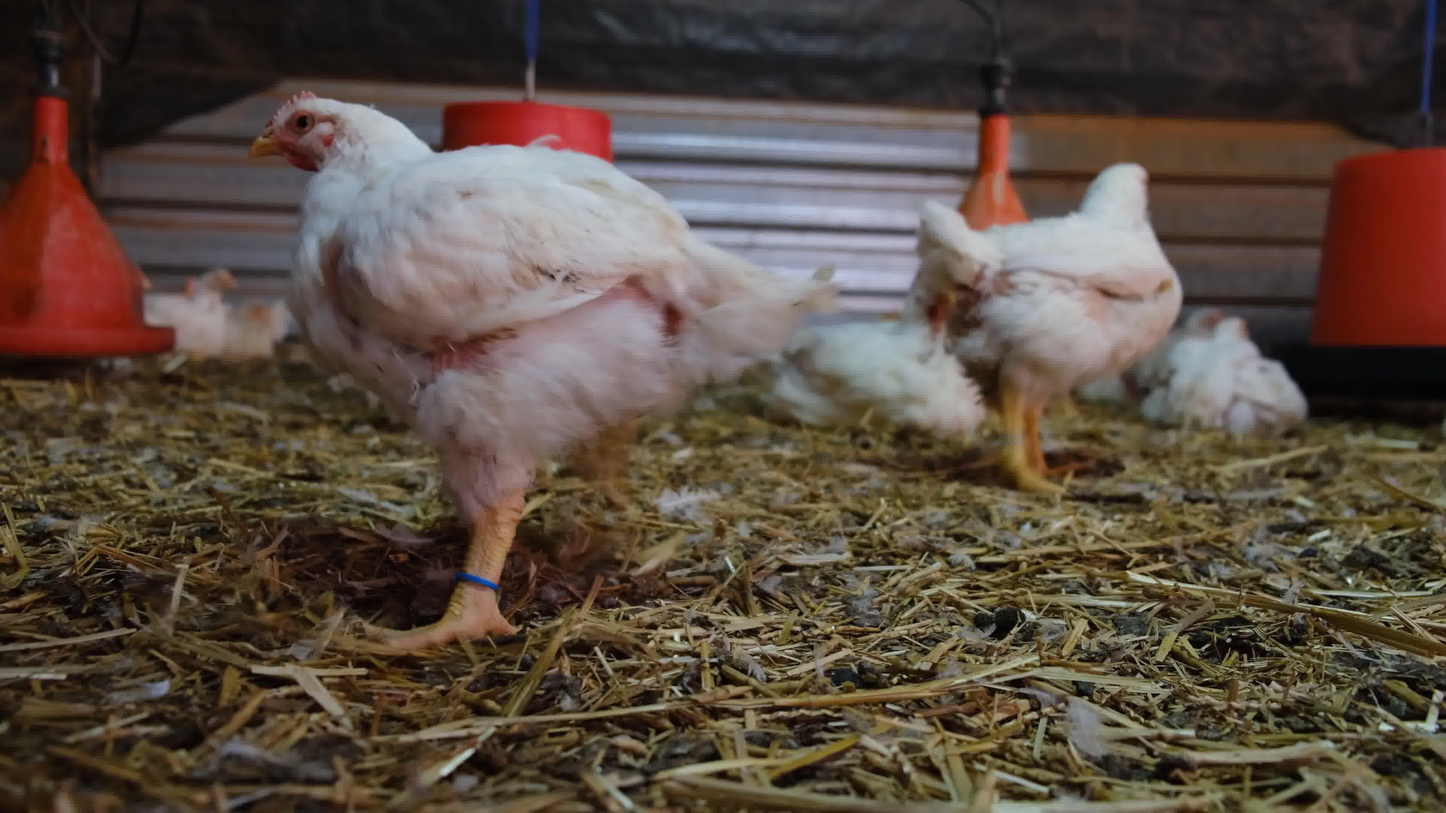AbNormal: (759, 322, 1001, 444), (1144, 315, 1311, 432), (1087, 309, 1228, 417)
Normal: (245, 87, 831, 646), (956, 158, 1185, 486), (128, 264, 238, 371), (185, 268, 290, 365), (134, 254, 158, 297)
